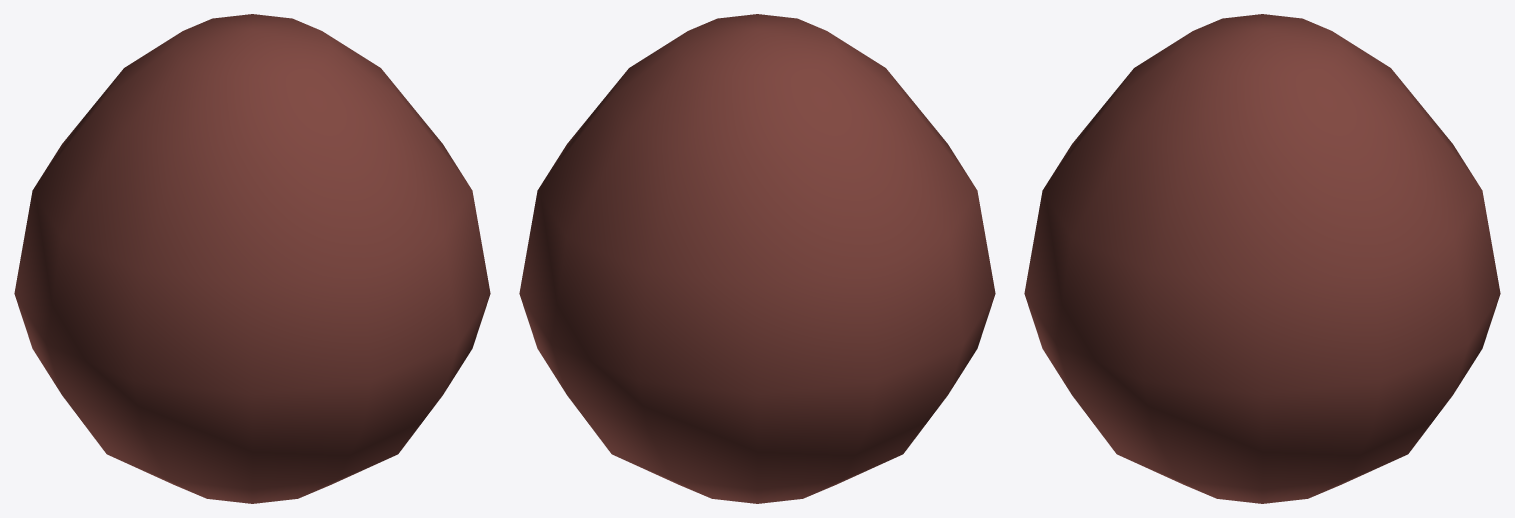
Rendered from coco.fbx.
The picture shows the model from 3 angles, left to right: view 1: azimuth 30°, elevation 25°; view 2: azimuth 150°, elevation 25°; view 3: azimuth 270°, elevation 25°; orthographic projection.
Visible parts, largest first — view 1: Coco; view 2: Coco; view 3: Coco.
Boxes of the visible parts, box(x1,y1,x2,y2) form: Coco: box(14, 14, 490, 503); Coco: box(519, 14, 995, 503); Coco: box(1024, 14, 1500, 503).
Size of the model in its own units: 47.26 by 49.5 by 47.26.
